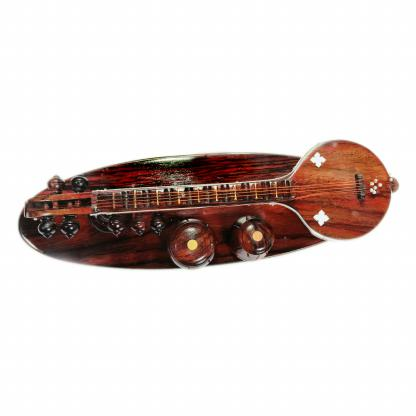Veena: (12, 138, 416, 271)
